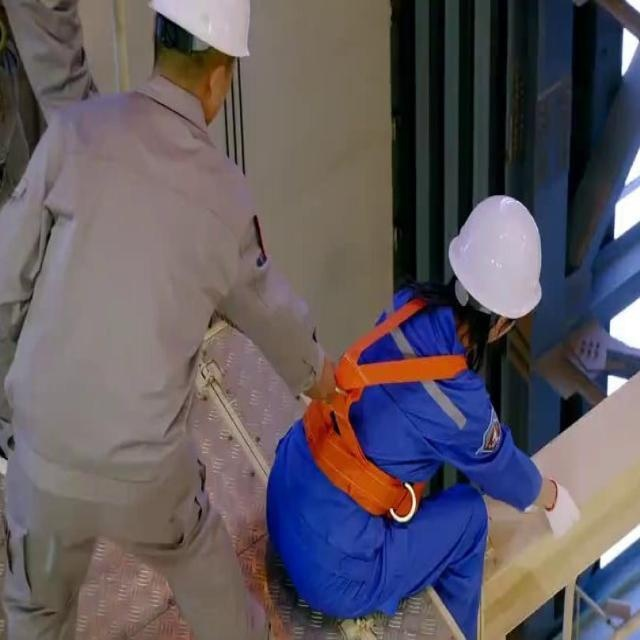Arnes_seguridad: (301, 256, 475, 527)
